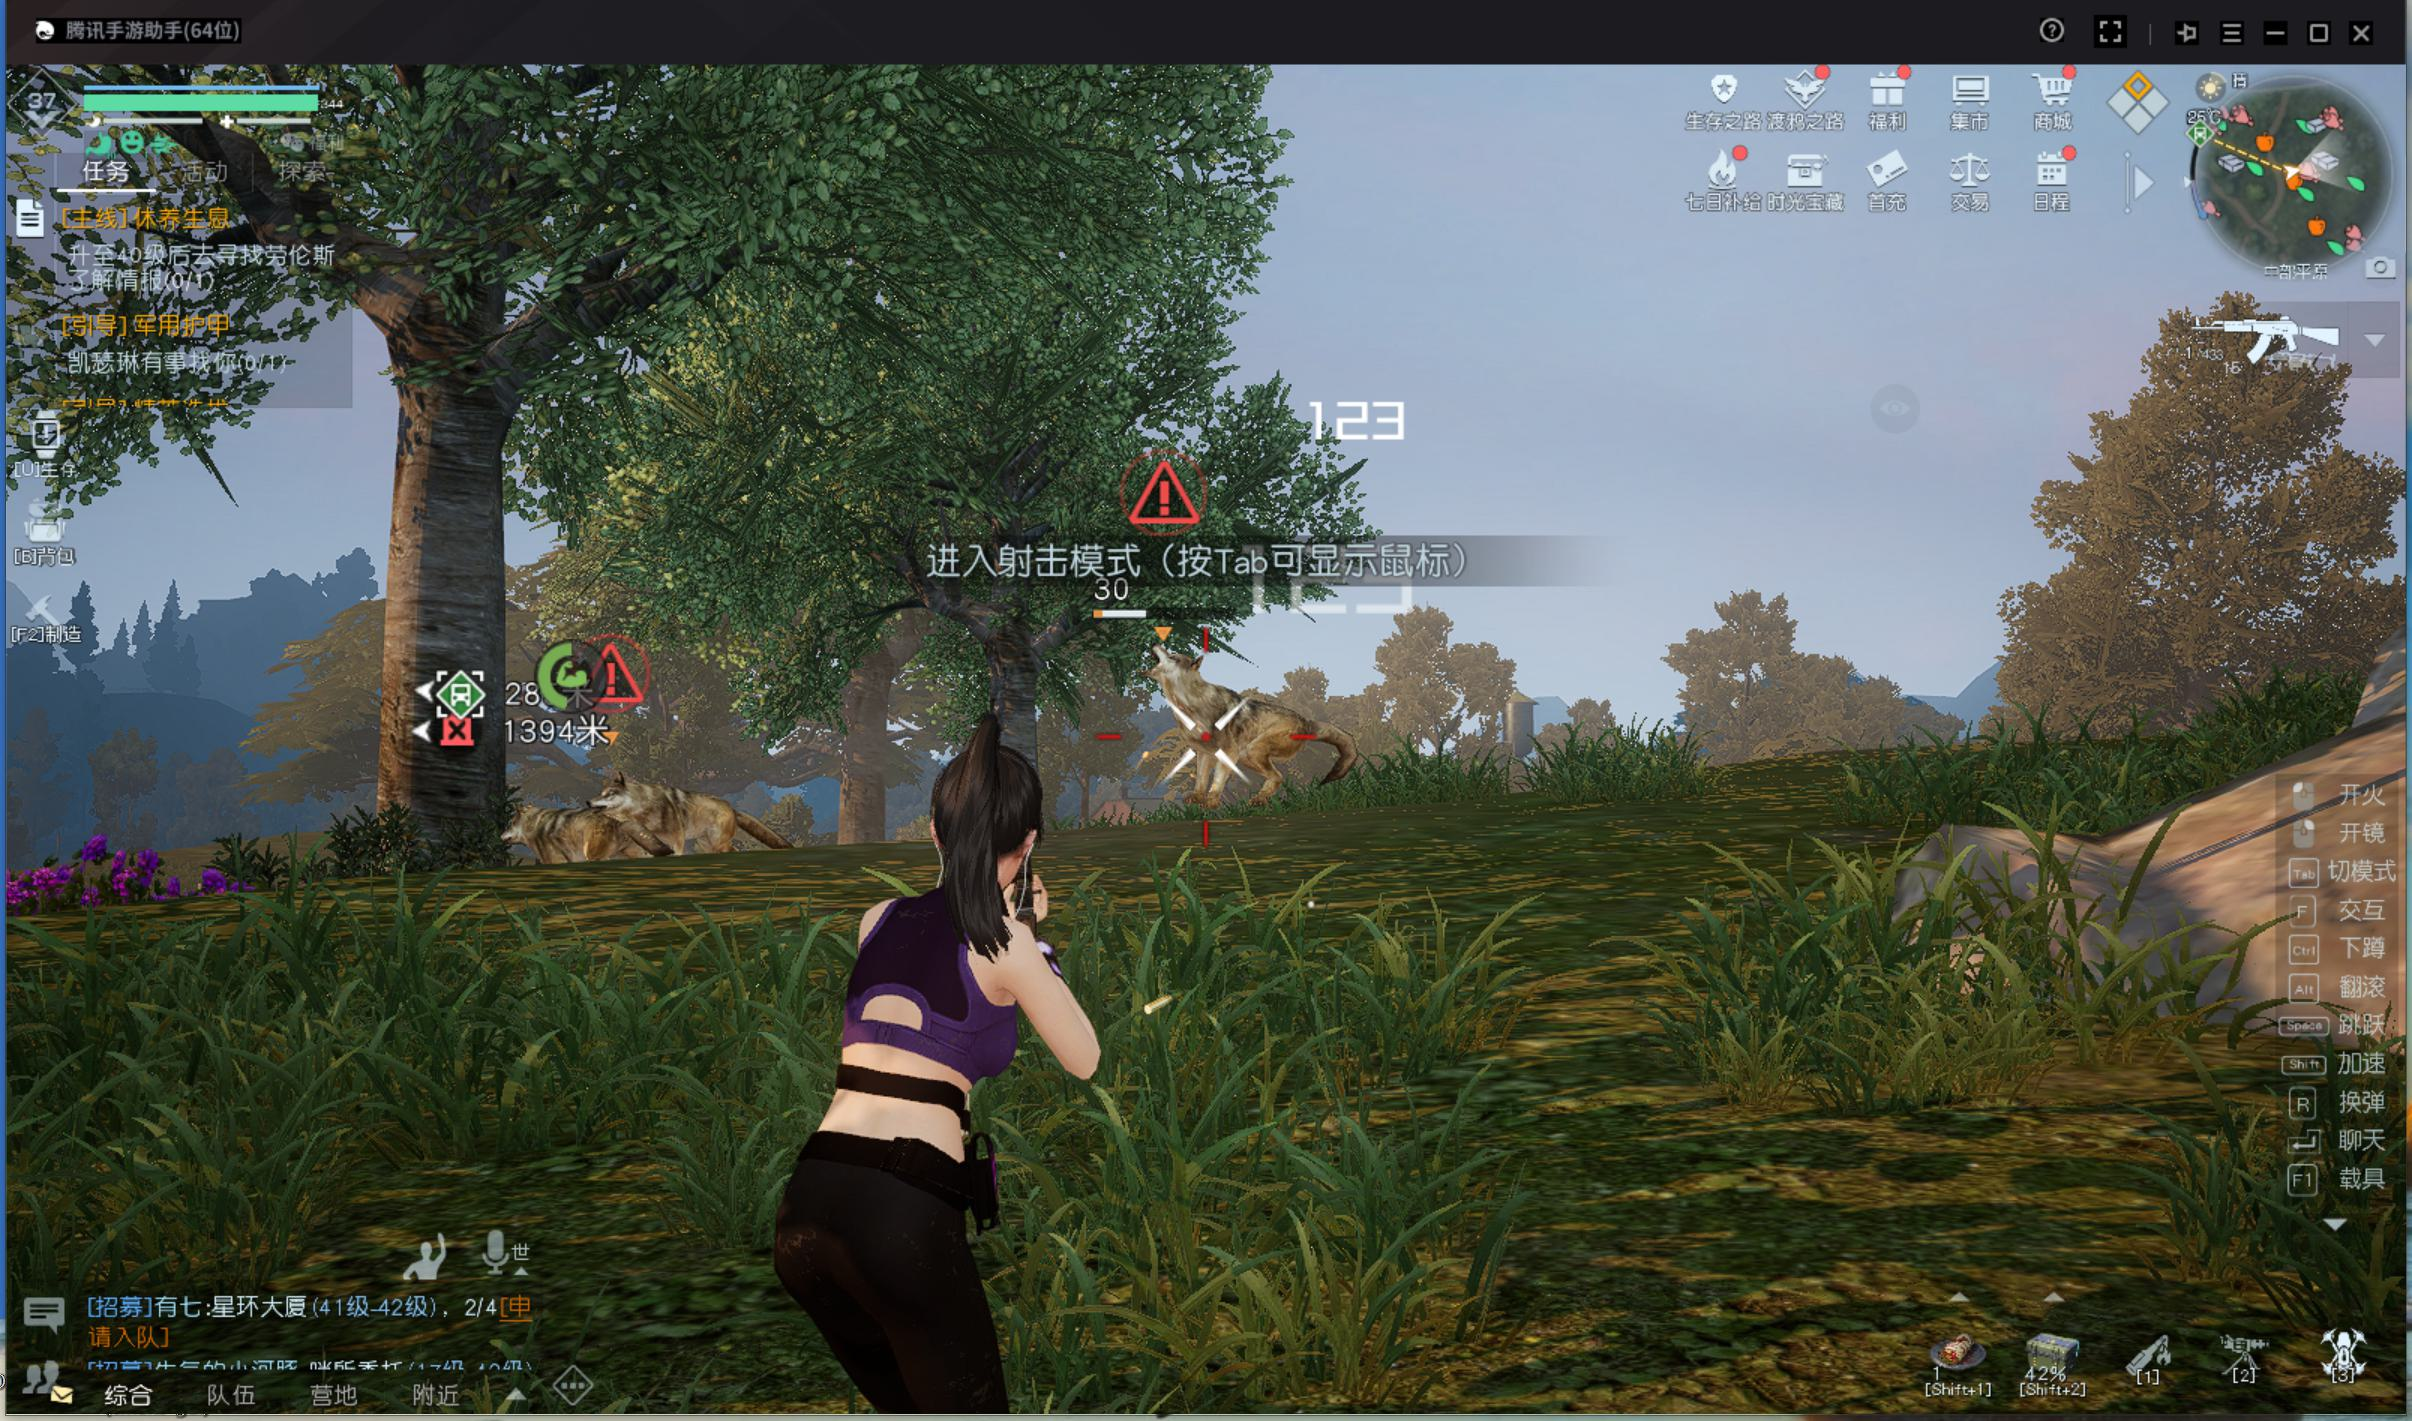tree: (382, 394, 514, 864), (827, 672, 895, 873), (983, 655, 1057, 748)
